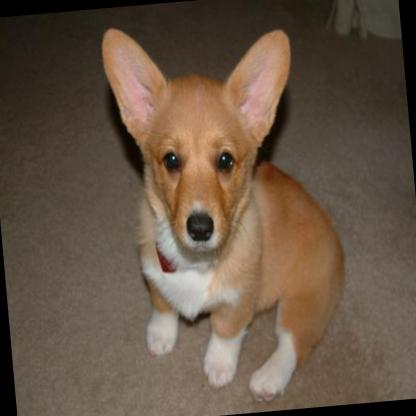Pembroke: (98, 7, 356, 415)
